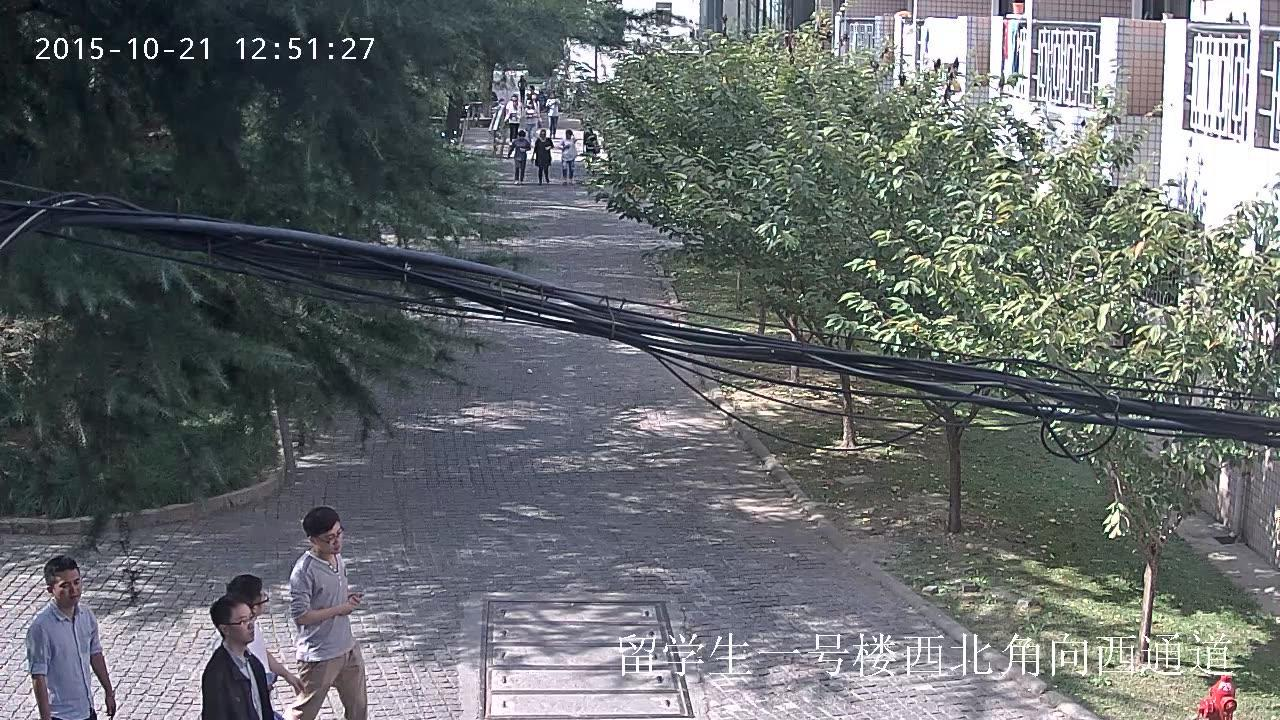person: (289, 506, 366, 720), (27, 553, 115, 720), (225, 574, 305, 720), (201, 592, 274, 720), (530, 128, 554, 185), (507, 129, 529, 184), (559, 129, 576, 185), (583, 121, 600, 173), (504, 95, 523, 140), (545, 91, 560, 134), (517, 74, 527, 102)
